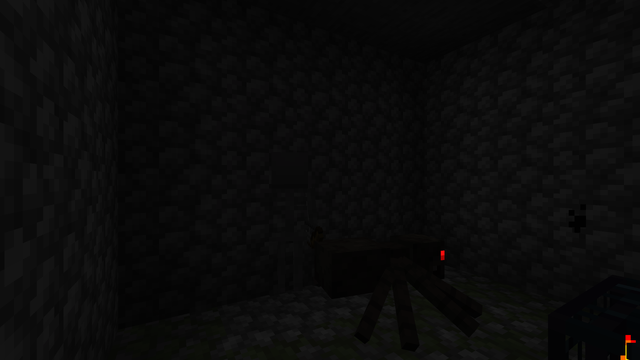araignees: (317, 222, 472, 349)
squelettes: (266, 151, 316, 302)
